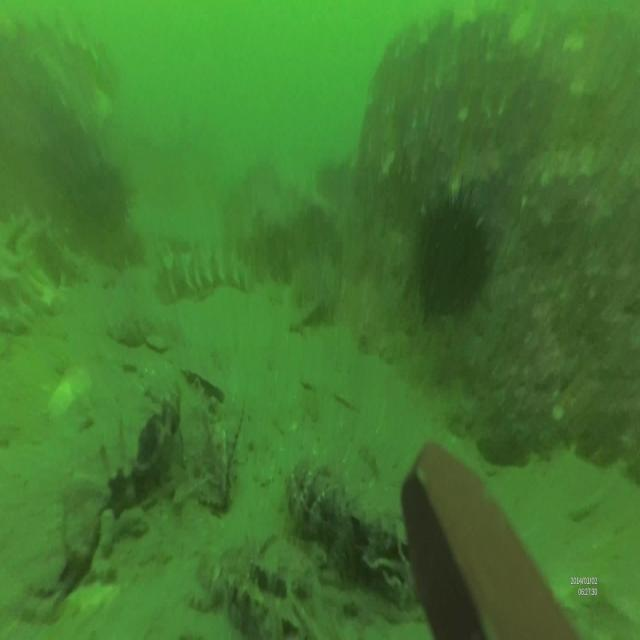echinus: (409, 180, 492, 322), (89, 164, 138, 225)
holothurian: (0, 209, 77, 335), (156, 244, 254, 304)
